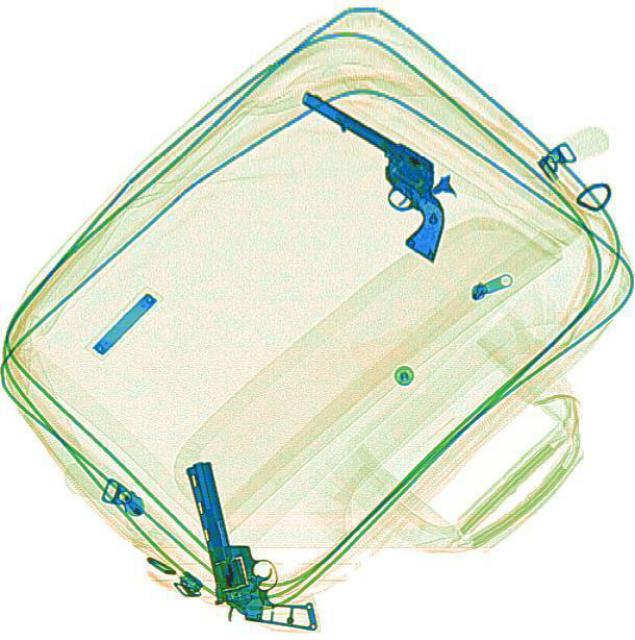Gun: (255, 86, 480, 262), (183, 446, 316, 636)
